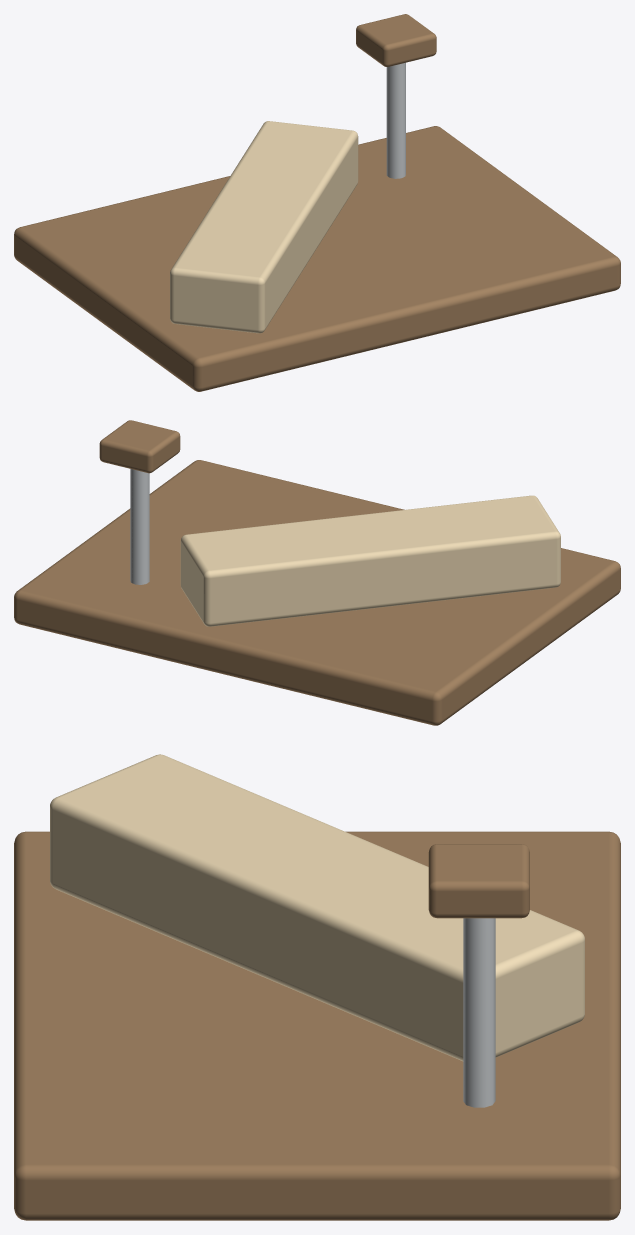
The model's file is marquetry-and-veneer-inlay-workshop-mitre-trimming-fen-931eb9d6__39100.glb.
The picture shows the model from 3 angles, top to bottom: view 1: azimuth 30°, elevation 25°; view 2: azimuth 150°, elevation 25°; view 3: azimuth 270°, elevation 25°; orthographic projection. The views are drawn at different scales.
Parts seen in each view (by area): view 1: mitre-trimming-fence; view 2: mitre-trimming-fence; view 3: mitre-trimming-fence.
Part boxes in pixels (x1,y1,x2,y2): mitre-trimming-fence: [14, 14, 620, 391]; mitre-trimming-fence: [14, 420, 620, 725]; mitre-trimming-fence: [14, 754, 620, 1220].
Bounding box in the file's own units: 0.4 × 0.16 × 0.3.
